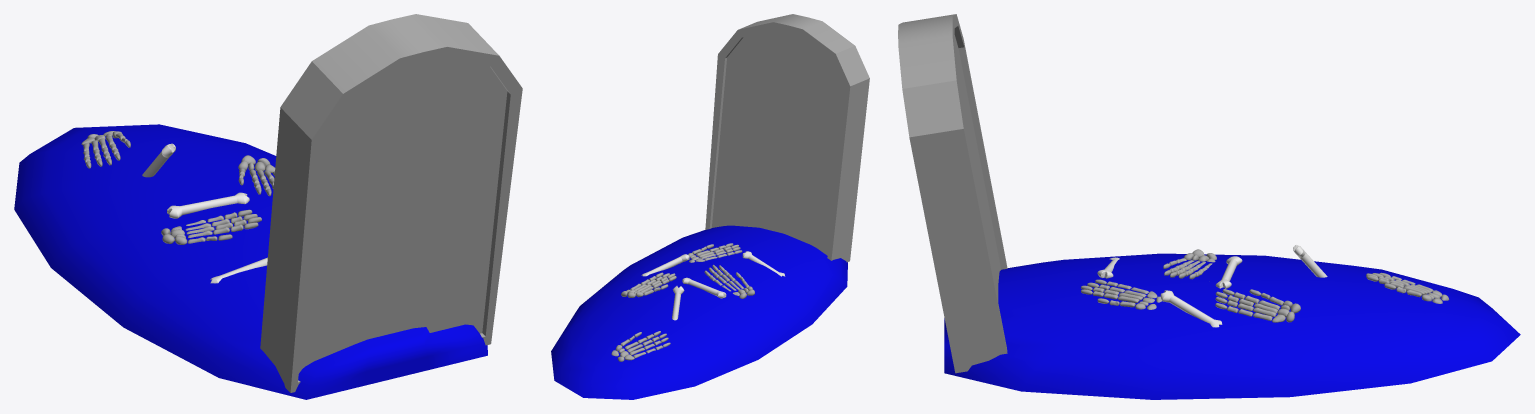
Rendered from spike factory path 1.fbx.
3 renders of one model, left to right at view 1: azimuth 30°, elevation 25°; view 2: azimuth 150°, elevation 25°; view 3: azimuth 270°, elevation 25°, orthographic. The views are drawn at different scales.
Parts seen in each view (by area): view 1: low_poly_hand4; view 2: low_poly_hand4; view 3: low_poly_hand4.
Boxes of the visible parts, left/top/right/bottom form: low_poly_hand4: left=14, top=14, right=522, bottom=399; low_poly_hand4: left=551, top=14, right=869, bottom=399; low_poly_hand4: left=898, top=14, right=1520, bottom=399.
Bounding box in the file's own units: 233 × 257 × 469.
